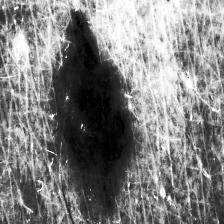Benign Marking or Mole: (45, 20, 144, 212)
